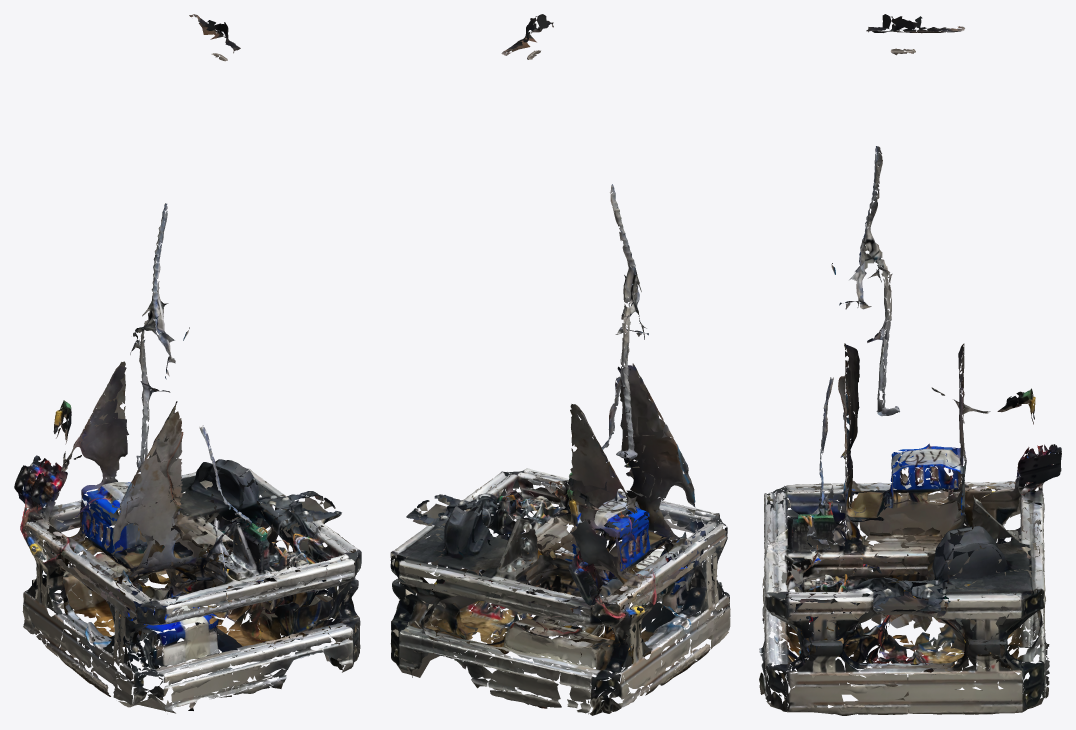
The picture shows the model from 3 angles, left to right: view 1: azimuth 30°, elevation 25°; view 2: azimuth 150°, elevation 25°; view 3: azimuth 270°, elevation 25°; orthographic projection. The views are drawn at different scales.
Parts seen in each view (by area): view 1: base; view 2: base; view 3: base.
Part boxes in pixels (x1=…): base: x1=14, y1=14, x2=361, y2=713; base: x1=390, y1=14, x2=730, y2=715; base: x1=759, y1=14, x2=1061, y2=715.
Bounding box in the file's own units: 0.5405 × 0.5137 × 1.25.
Materials: 1 (1 with a texture image).
